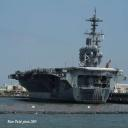Portanaves: (10, 7, 124, 104)
